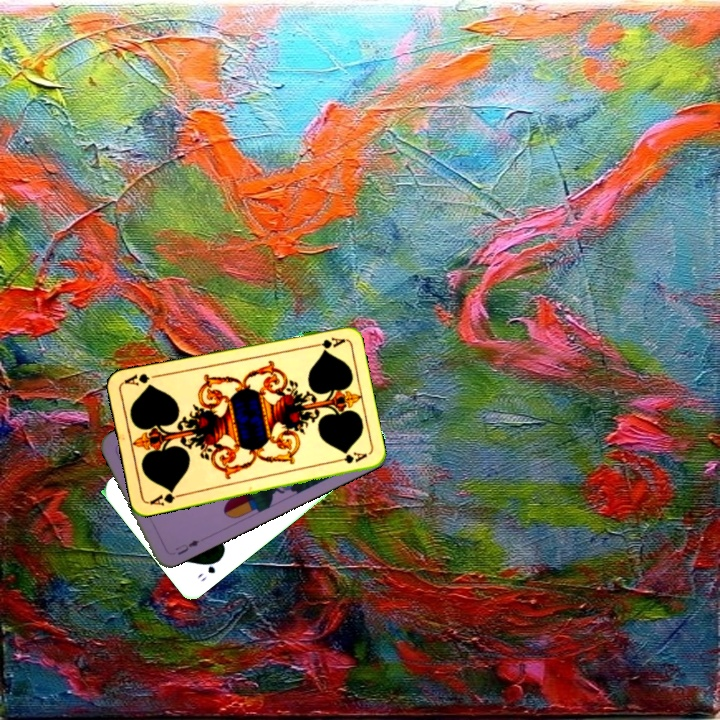EU: (171, 536, 202, 557)
GA: (145, 486, 186, 508), (306, 333, 347, 352)
GO: (193, 554, 224, 584)
